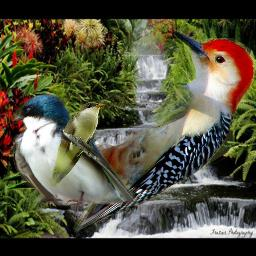Cuckoo: (49, 101, 107, 187)
Swallow: (11, 92, 139, 222)
Woodpecker: (1, 30, 255, 235)
